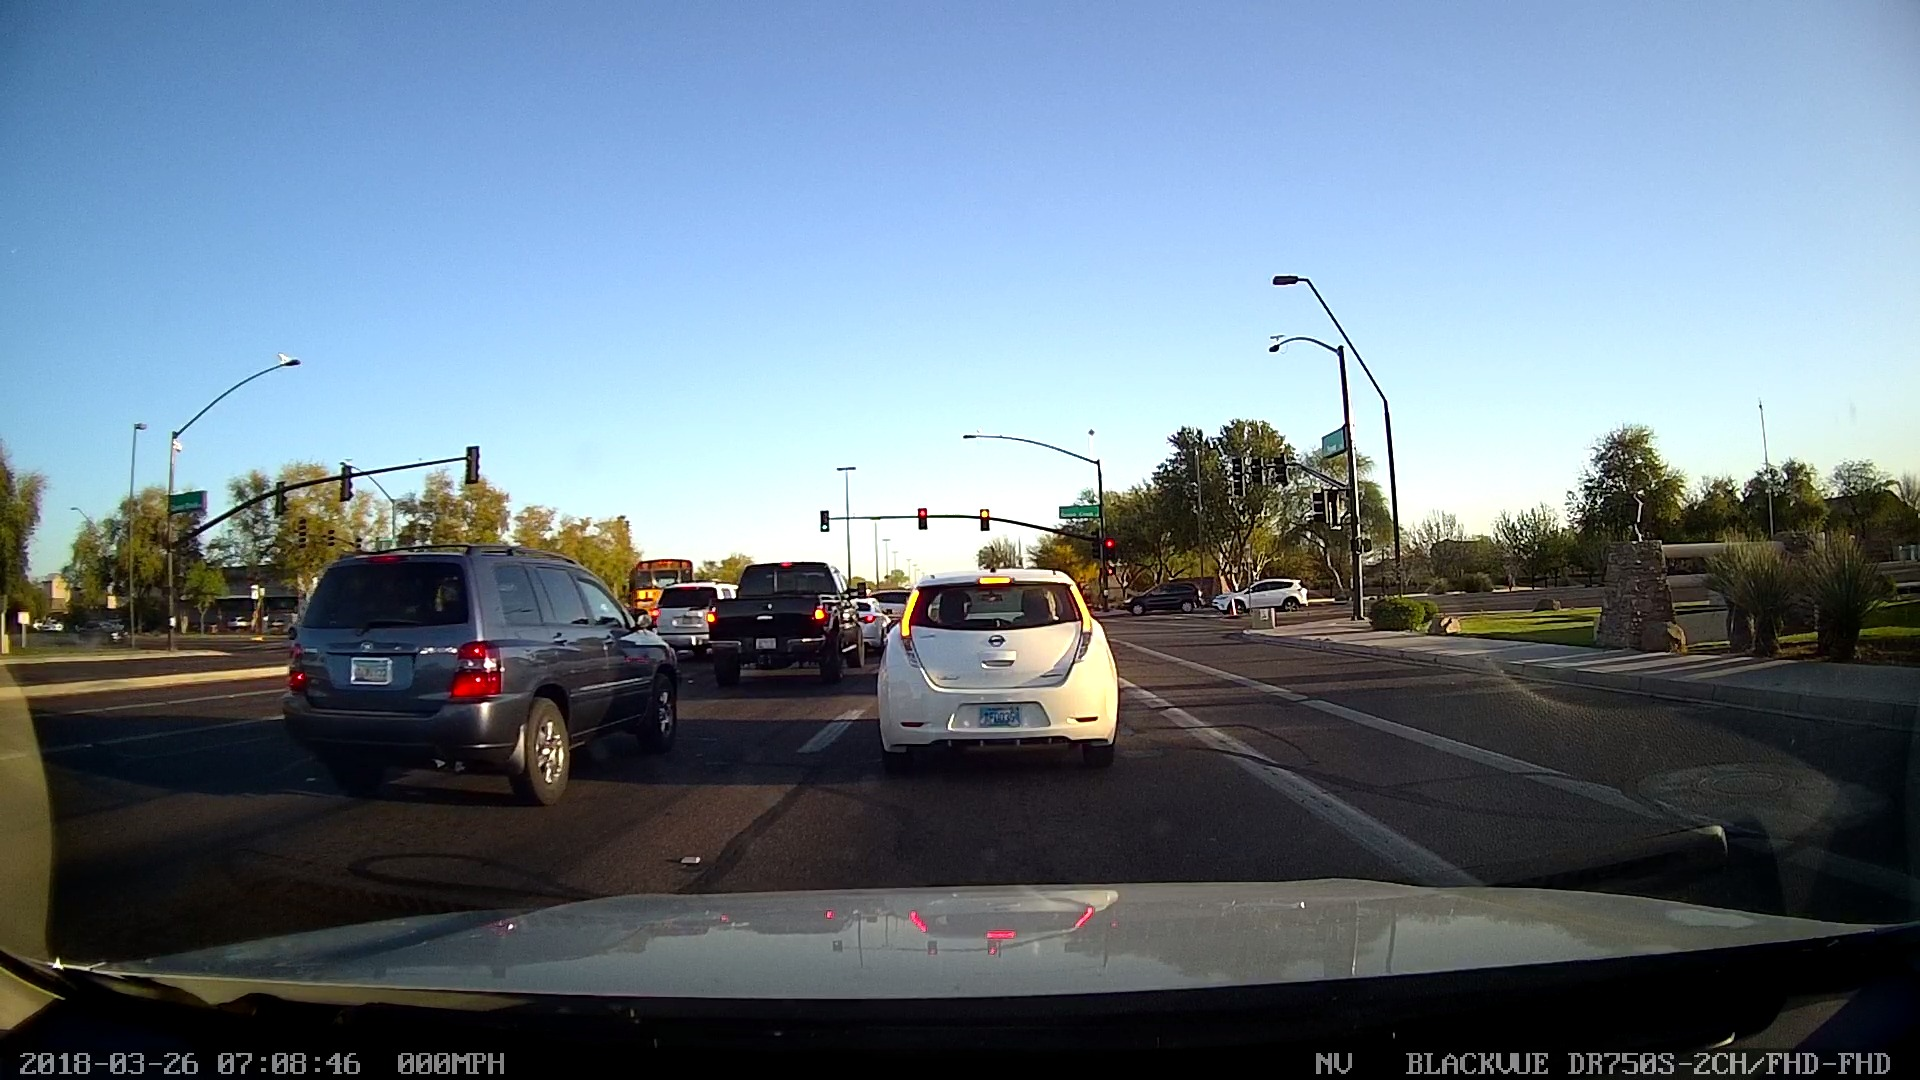vehicle: (282, 510, 688, 814), (857, 560, 1129, 774), (684, 551, 862, 695), (636, 560, 750, 673), (1204, 568, 1313, 620), (955, 694, 1046, 741)
